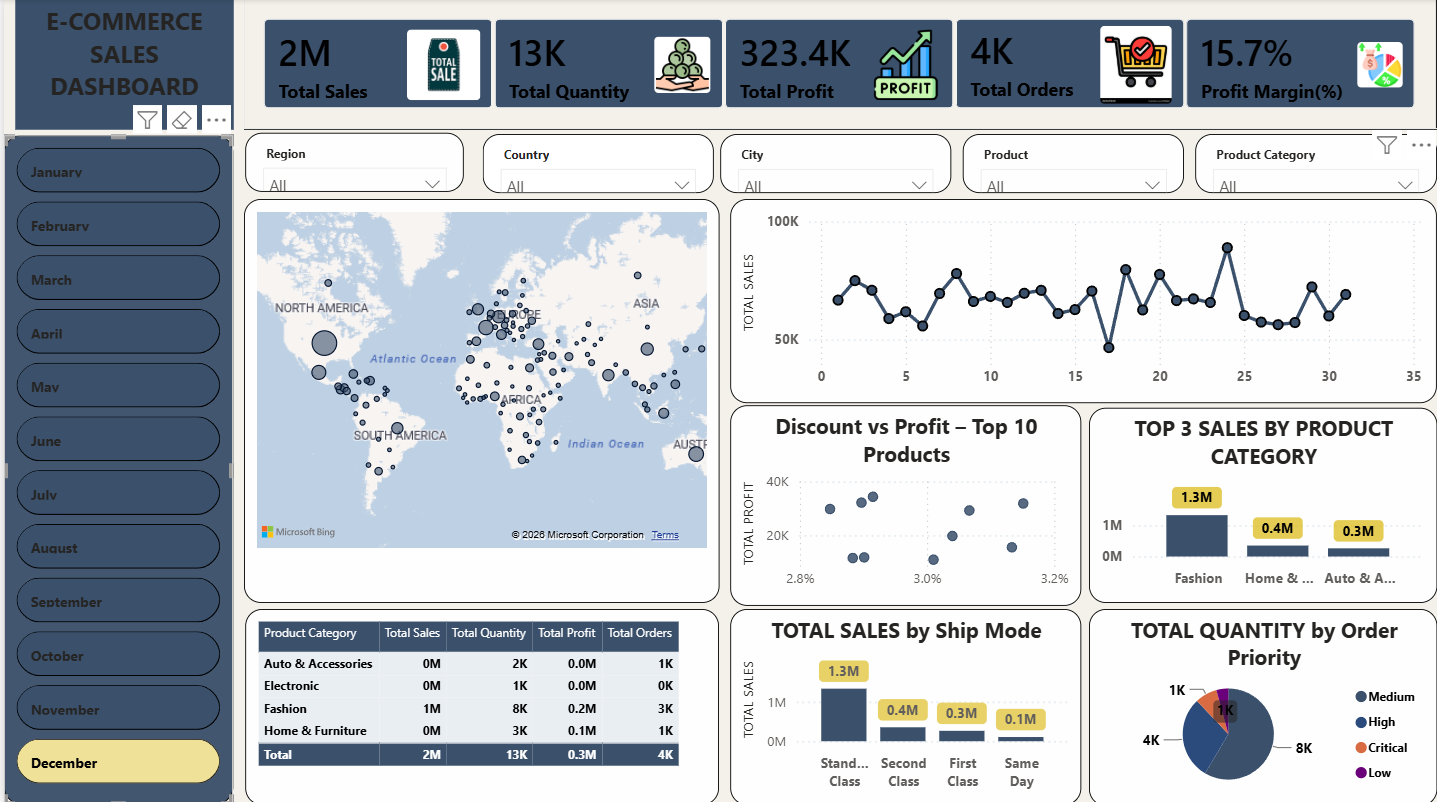

Layout of this report page (visuals, bound fields, positions):
{"tool":"powerbi","page":{"name":"Page 1","canvas":[1280,720],"ordinal":0},"visuals":[{"type":"textbox","box":[9.6,0,194.9,116.6],"z":0},{"type":"advancedSlicerVisual","fields":{"Values":["E-COMMERCE DATA.Order Date.Variation.Date Hierarchy.Month"]},"box":[0,122.1,204.7,597.7],"z":1000},{"type":"slicer","fields":{"Values":["E-COMMERCE DATA.Region"]},"box":[215.6,120,195.5,53],"z":2000},{"type":"slicer","fields":{"Values":["E-COMMERCE DATA.Country"]},"box":[427.5,120.1,206.2,52.9],"z":3000},{"type":"slicer","fields":{"Values":["E-COMMERCE DATA.City"]},"box":[639.5,120.1,206.1,53],"z":4000},{"type":"slicer","fields":{"Values":["E-COMMERCE DATA.Product"]},"box":[856.2,120.1,197.8,52.9],"z":5000},{"type":"columnChart","fields":{"Category":["E-COMMERCE DATA.Ship Mode"],"Y":["E-COMMERCE DATA.TOTAL SALES"]},"box":[649.2,544.7,313.5,175.5],"z":6000},{"type":"pieChart","fields":{"Category":["E-COMMERCE DATA.Order Priority"],"Y":["E-COMMERCE DATA.TOTAL QUANTITY"]},"box":[968.8,544.8,311.5,175.6],"z":7000},{"type":"lineChart","fields":{"Category":["E-COMMERCE DATA.Order Date.Variation.Date Hierarchy.Month","E-COMMERCE DATA.Order Date.Variation.Date Hierarchy.Day"],"Y":["E-COMMERCE DATA.TOTAL SALES"]},"box":[649.2,178.3,631.1,182.5],"z":8000},{"type":"tableEx","fields":{"Values":["E-COMMERCE DATA.Product Category","E-COMMERCE DATA.TOTAL SALES","E-COMMERCE DATA.TOTAL QUANTITY","E-COMMERCE DATA.TOTAL PROFIT","E-COMMERCE DATA.TOTAL ORDERS"]},"box":[215.9,544.7,423.5,175.5],"z":9000},{"type":"clusteredColumnChart","title":"TOP 3 SALES BY PRODUCT CATEGORY ","fields":{"Category":["E-COMMERCE DATA.Product Category"],"Y":["E-COMMERCE DATA.TOTAL SALES"]},"box":[969.3,365.1,310.9,174.3],"z":10000},{"type":"map","fields":{"Category":["E-COMMERCE DATA.Country"],"Size":["CountNonNull(E-COMMERCE DATA.City)"]},"box":[214.5,178.3,424.9,360.8],"z":12000},{"type":"slicer","fields":{"Values":["E-COMMERCE DATA.Product Category"]},"box":[1064.7,120.1,215.9,52.9],"z":13000},{"type":"scatterChart","title":"Discount vs Profit – Top 10 Products","fields":{"Category":["E-COMMERCE DATA.Product"],"X":["E-COMMERCE DATA.AVERAGE DISCOUNT"],"Y":["E-COMMERCE DATA.TOTAL PROFIT"]},"box":[649,362.8,313.3,179],"z":14000},{"type":"cardVisual","fields":{"Data":["E-COMMERCE DATA.TOTAL SALES","E-COMMERCE DATA.TOTAL QUANTITY","E-COMMERCE DATA.TOTAL PROFIT","E-COMMERCE DATA.TOTAL ORDERS","E-COMMERCE DATA.PROFIT MARGIN %"]},"box":[214.4,0,1065.9,116.6],"z":15000}]}

Visuals, with their boxes in screenshot pixels (x1, y1, x2, y2), scaled from the page's 1280x720 canvas onto the 1437x802 screenshot:
textbox: <bbox>11, 0, 230, 130</bbox>
advancedSlicerVisual - E-COMMERCE DATA.Order Date.Variation.Date Hierarchy.Month: <bbox>0, 136, 230, 801</bbox>
slicer - E-COMMERCE DATA.Region: <bbox>242, 134, 462, 193</bbox>
slicer - E-COMMERCE DATA.Country: <bbox>480, 134, 711, 193</bbox>
slicer - E-COMMERCE DATA.City: <bbox>718, 134, 949, 193</bbox>
slicer - E-COMMERCE DATA.Product: <bbox>961, 134, 1183, 193</bbox>
columnChart - E-COMMERCE DATA.Ship Mode x E-COMMERCE DATA.TOTAL SALES: <bbox>729, 607, 1081, 801</bbox>
pieChart - E-COMMERCE DATA.Order Priority x E-COMMERCE DATA.TOTAL QUANTITY: <bbox>1088, 607, 1436, 801</bbox>
lineChart - E-COMMERCE DATA.Order Date.Variation.Date Hierarchy.Month x E-COMMERCE DATA.Order Date.Variation.Date Hierarchy.Day: <bbox>729, 199, 1436, 402</bbox>
tableEx - E-COMMERCE DATA.Product Category x E-COMMERCE DATA.TOTAL SALES: <bbox>242, 607, 718, 801</bbox>
"TOP 3 SALES BY PRODUCT CATEGORY " clusteredColumnChart: <bbox>1088, 407, 1436, 601</bbox>
map - E-COMMERCE DATA.Country x CountNonNull(E-COMMERCE DATA.City): <bbox>241, 199, 718, 600</bbox>
slicer - E-COMMERCE DATA.Product Category: <bbox>1195, 134, 1436, 193</bbox>
"Discount vs Profit – Top 10 Products" scatterChart: <bbox>729, 404, 1080, 604</bbox>
cardVisual - E-COMMERCE DATA.TOTAL SALES x E-COMMERCE DATA.TOTAL QUANTITY: <bbox>241, 0, 1436, 130</bbox>
